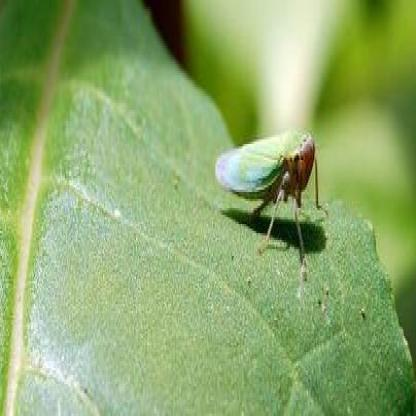Green-Leafhopper: (212, 127, 328, 279)
